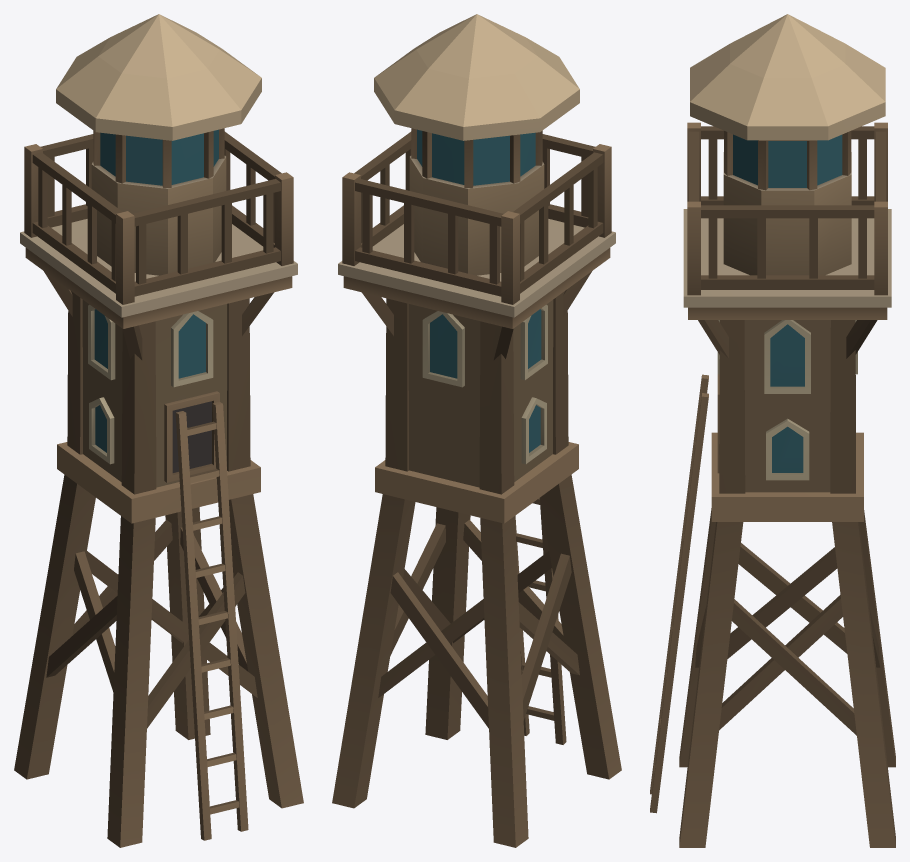
Rendered from tower.glb.
3 views of the same model, side by side, from view 1: azimuth 30°, elevation 25°; view 2: azimuth 150°, elevation 25°; view 3: azimuth 270°, elevation 25° (orthographic). The views are drawn at different scales.
Visible parts, largest first — view 1: tower; view 2: tower; view 3: tower.
Part boxes in pixels (x1,y1,x2,y2): tower: [14, 14, 303, 847]; tower: [332, 14, 621, 847]; tower: [650, 14, 895, 847].
Size of the model in its own units: 3 by 12.05 by 3.41.
